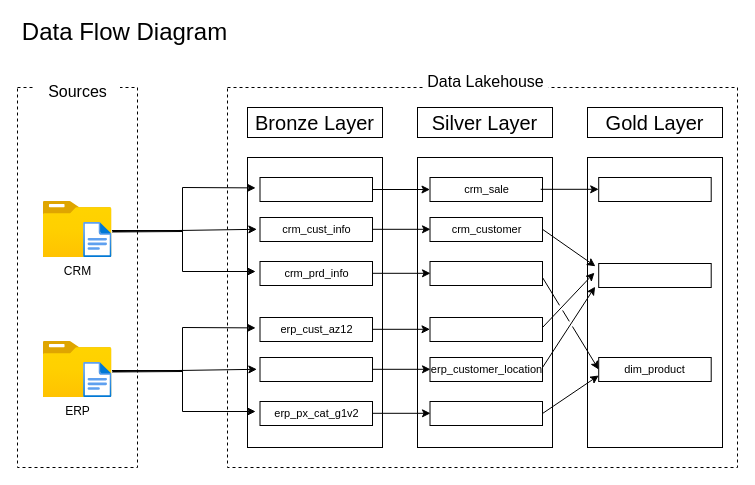
The diagram is 755 pixels wide and 485 high, and some of its shapes have lost their labels. Each missing label, with the centre of its shape:
"crm_product" belongs at [485,273].
"crm_sales_details" belongs at [315,189].
"dim_customer" belongs at [654,275].
"erp_customer" belongs at [485,329].
"erp_loc_a101" belongs at [315,369].
"erp_product_category" belongs at [485,413].
"fact_sale" belongs at [654,189].
